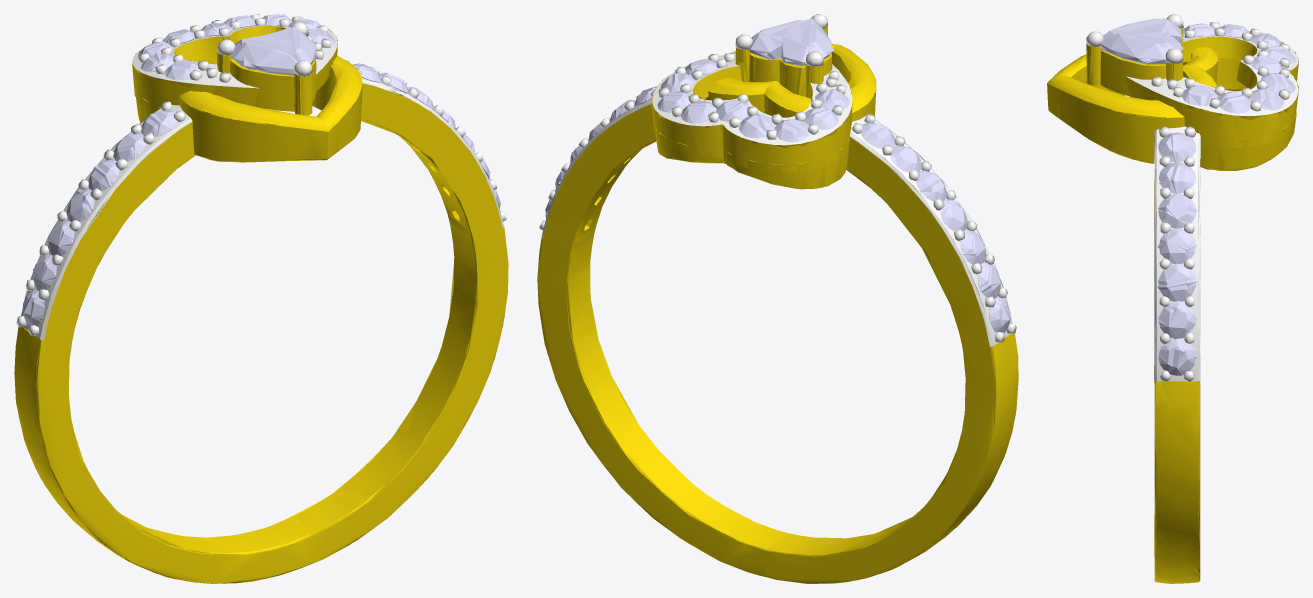
The model's file is DLR-D000617857.glb.
3 views of the same model, side by side, from view 1: azimuth 30°, elevation 25°; view 2: azimuth 150°, elevation 25°; view 3: azimuth 270°, elevation 25° (orthographic). The views are drawn at different scales.
Visible parts, largest first — view 1: highPolyMesh, lowPolyMesh; view 2: highPolyMesh, lowPolyMesh; view 3: highPolyMesh, lowPolyMesh.
Part boxes in pixels (x1,y1,x2,y2): highPolyMesh: (14,14,507,583); lowPolyMesh: (14,14,508,583); highPolyMesh: (538,14,1018,583); lowPolyMesh: (537,14,1018,583); highPolyMesh: (1047,14,1298,583); lowPolyMesh: (1047,15,1298,582).
Bounding box in the file's own units: 0.0202 × 0.022 × 0.00949.
